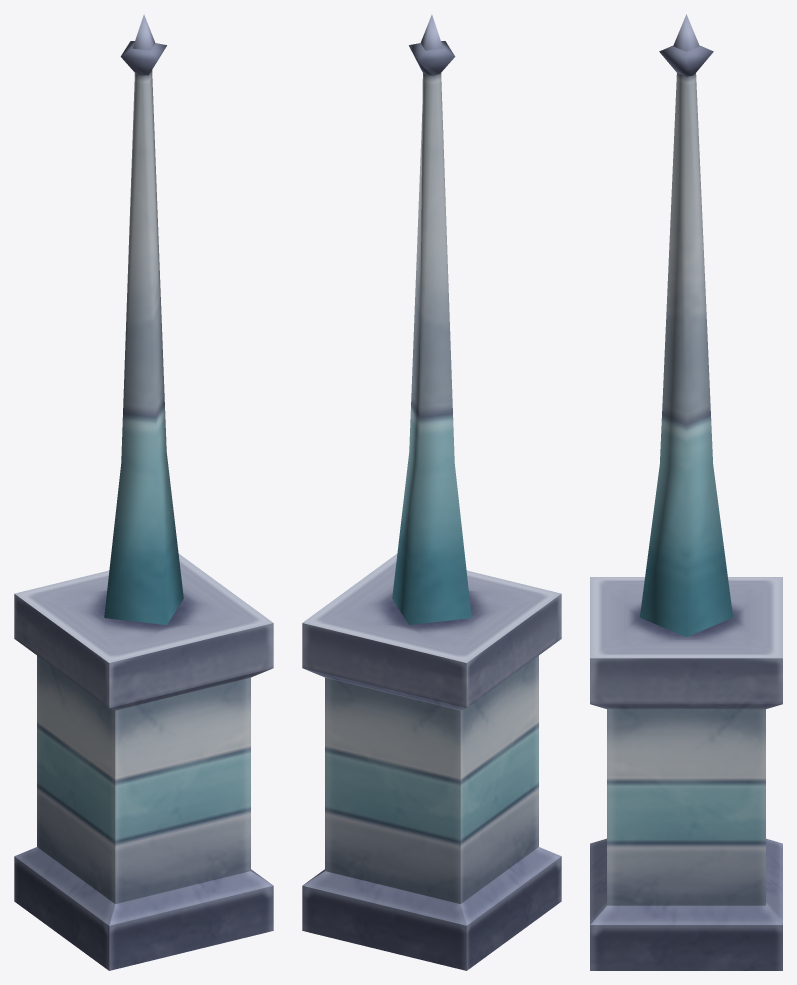
Rendered from a_SWAtent01b.glb.
3 views of the same model, side by side, from view 1: azimuth 30°, elevation 25°; view 2: azimuth 150°, elevation 25°; view 3: azimuth 270°, elevation 25° (orthographic).
Parts seen in each view (by area): view 1: a_SWAtent01b; view 2: a_SWAtent01b; view 3: a_SWAtent01b.
Boxes of the visible parts, x1,y1,x2,y2 form: a_SWAtent01b: (14, 14, 273, 970); a_SWAtent01b: (302, 14, 561, 970); a_SWAtent01b: (590, 14, 782, 970).
Size of the model in its own units: 0.7393 by 3.88 by 0.7393.
Materials: 1 (1 with a texture image).
